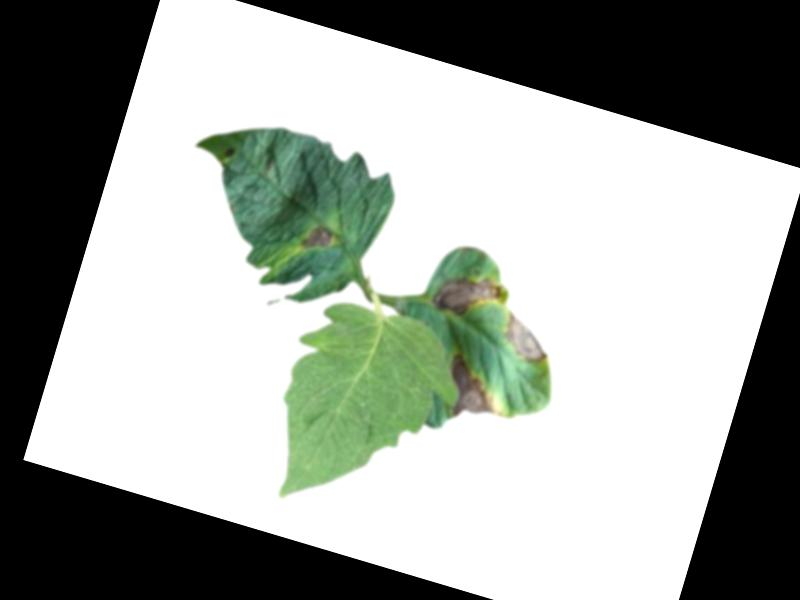Early_blight: (436, 352, 503, 427), (431, 267, 507, 329), (498, 308, 561, 366), (300, 220, 336, 258), (222, 144, 238, 161)
healthy: (251, 276, 479, 542)
